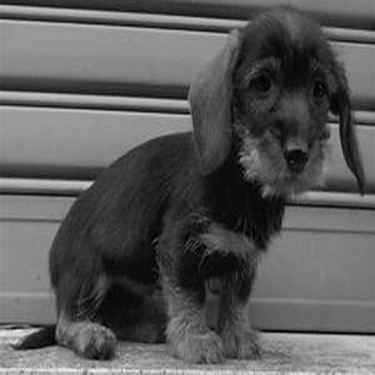dog: (8, 6, 369, 367)
